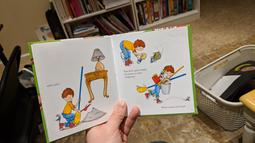text block: (119, 65, 150, 83), (158, 103, 190, 109), (46, 80, 62, 90)
